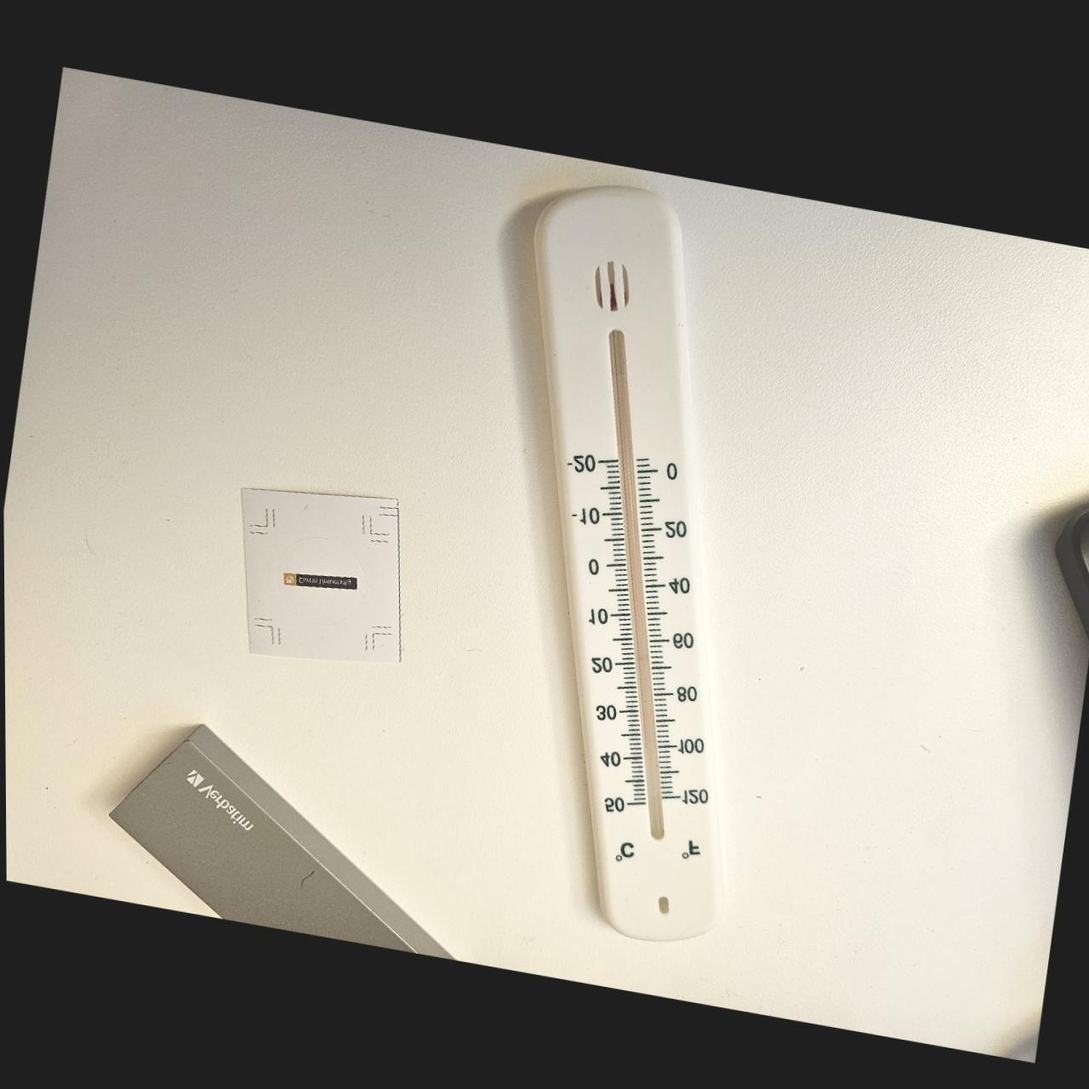thermometer: (438, 165, 828, 964)
